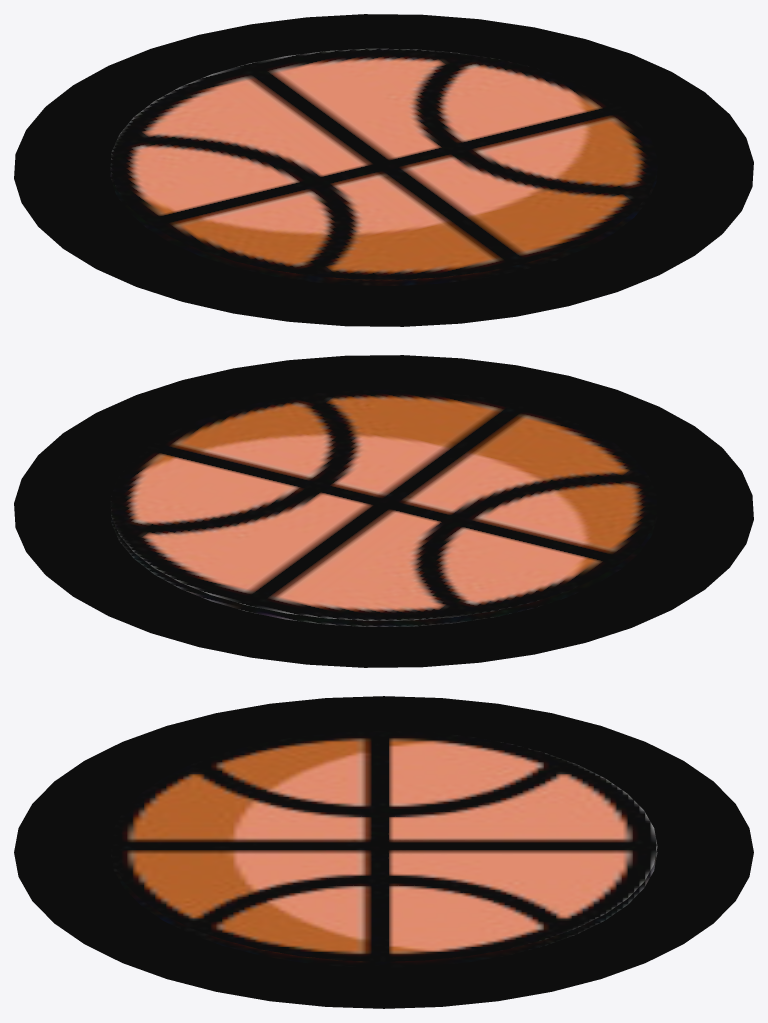
The model's file is ChanceRing.fbx.
3 renders of one model, top to bottom at view 1: azimuth 30°, elevation 25°; view 2: azimuth 150°, elevation 25°; view 3: azimuth 270°, elevation 25°, orthographic.
Parts seen in each view (by area): view 1: pPipe2, pPipe1; view 2: pPipe2, pPipe1; view 3: pPipe2, pPipe1.
Boxes of the visible parts, left/top/right/bottom form: pPipe2: left=110, top=48, right=657, bottom=279; pPipe1: left=14, top=14, right=753, bottom=326; pPipe2: left=110, top=389, right=657, bottom=620; pPipe1: left=14, top=355, right=753, bottom=667; pPipe2: left=110, top=730, right=657, bottom=961; pPipe1: left=14, top=696, right=753, bottom=1008.
Bounding box in the file's own units: 2 × 0.0186 × 2.
